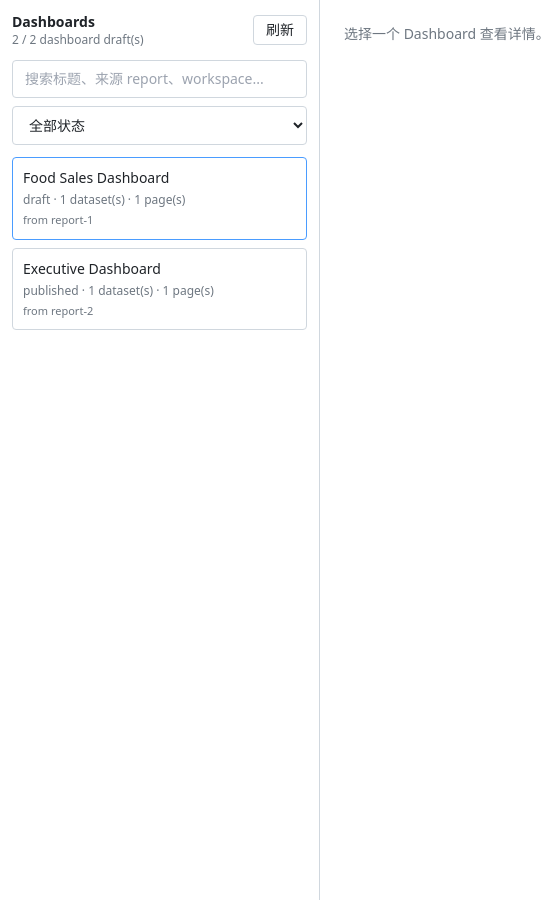
Scenario: DashboardsPanel › filters dashboards by search text and status
This screenshot has width=558, height=900.
Expected: the text "Food Sales Dashboard" is shown, [23,168,169,187]
Expected: the text "Executive Dashboard" is shown, [23,258,161,278]
In the field with placeholder "搜索标题、来源 report、workspace...": [160, 79] box [12,60,307,98], type "executive"
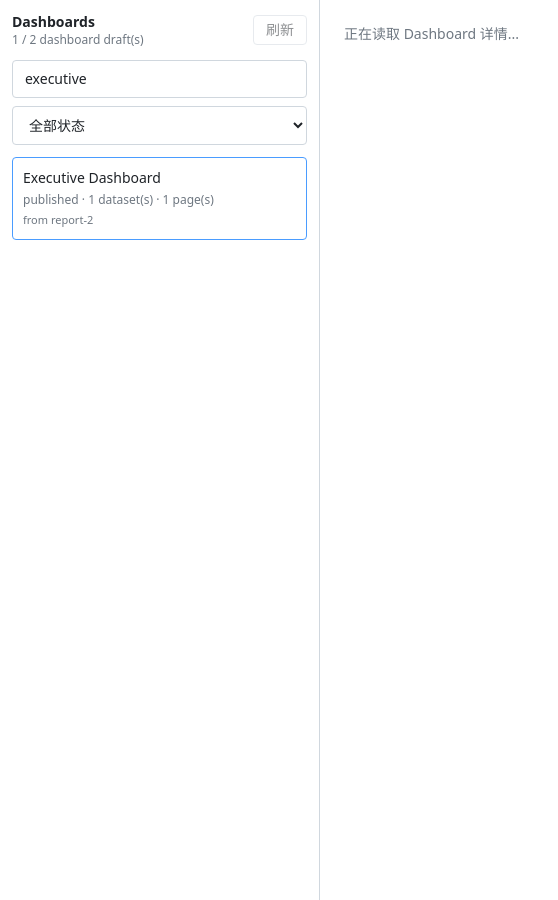
Expected: the text "Executive Dashboard" is shown, [23,168,161,187]
Expected: the button "Food Sales Dashboard" is gone
Select "draft" in the dropdown named "Dashboard status filter": [160, 126] box [12,106,307,145]
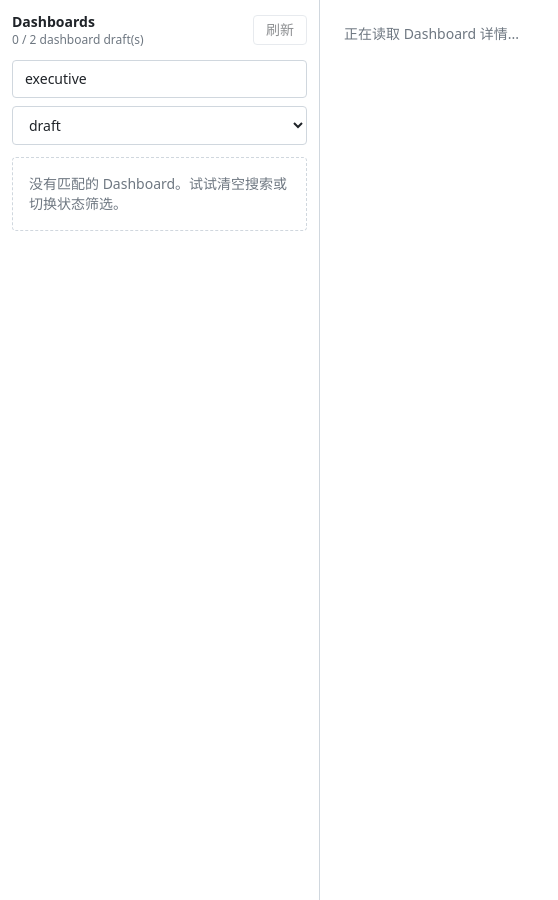
Expected: the list item "没有匹配的 Dashboard。试试清空搜索或切换状态筛选。" is shown, [12,157,307,231]
